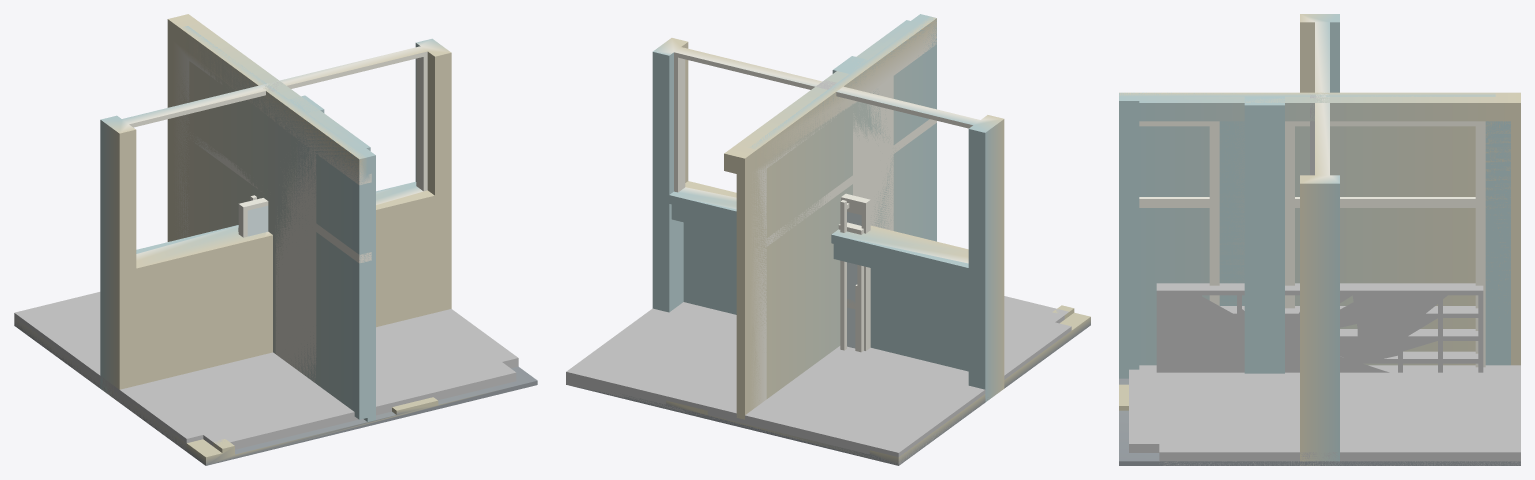
Rendered from Shoebox.fbx.
3 renders of one model, left to right at view 1: azimuth 30°, elevation 25°; view 2: azimuth 150°, elevation 25°; view 3: azimuth 270°, elevation 25°, orthographic. The views are drawn at different scales.
Visible parts, largest first — view 1: wall-D, wall-A, floor-A, wall-B, floor-B, door; view 2: wall-D, wall-A, floor-A, wall-B, floor-B, door, window-A; view 3: wall-A, floor-A, wall-B, shoebox, wall-D, floor-B.
Boxes of the visible parts, x1,y1,x2,y2 form: wall-D: (100, 38, 451, 400); wall-A: (167, 14, 375, 421); floor-A: (14, 292, 518, 451); wall-B: (172, 26, 371, 381); floor-B: (14, 318, 537, 465); door: (238, 195, 268, 237); wall-D: (652, 38, 1004, 402); wall-A: (724, 14, 936, 419); floor-A: (566, 296, 1071, 465); wall-B: (749, 16, 936, 411); floor-B: (566, 305, 1090, 465); door: (840, 193, 870, 350); window-A: (838, 222, 863, 352); wall-A: (1119, 92, 1520, 378); floor-A: (1129, 365, 1520, 465); wall-B: (1119, 92, 1510, 373); shoebox: (1156, 283, 1483, 372); wall-D: (1300, 14, 1339, 465); floor-B: (1119, 378, 1520, 465).
Bounding box in the file's own units: 800 × 620 × 800.
